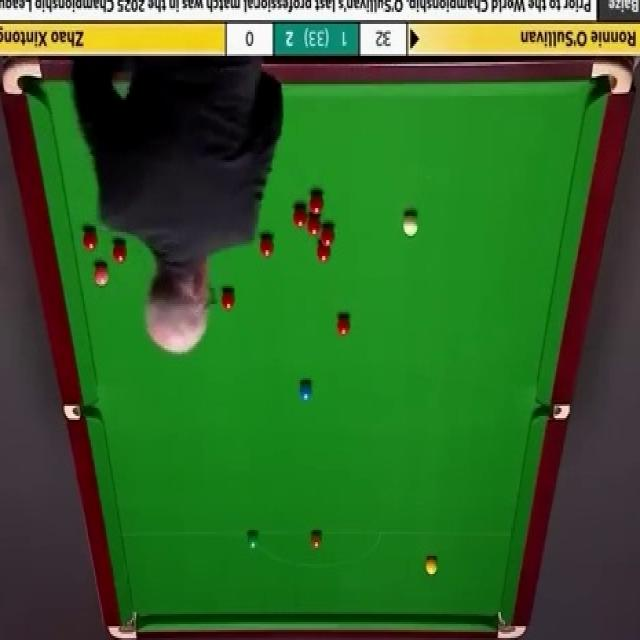pocket: (4, 58, 44, 100), (589, 63, 635, 95), (497, 611, 530, 640), (108, 612, 140, 640), (65, 403, 99, 420), (535, 405, 571, 420)
